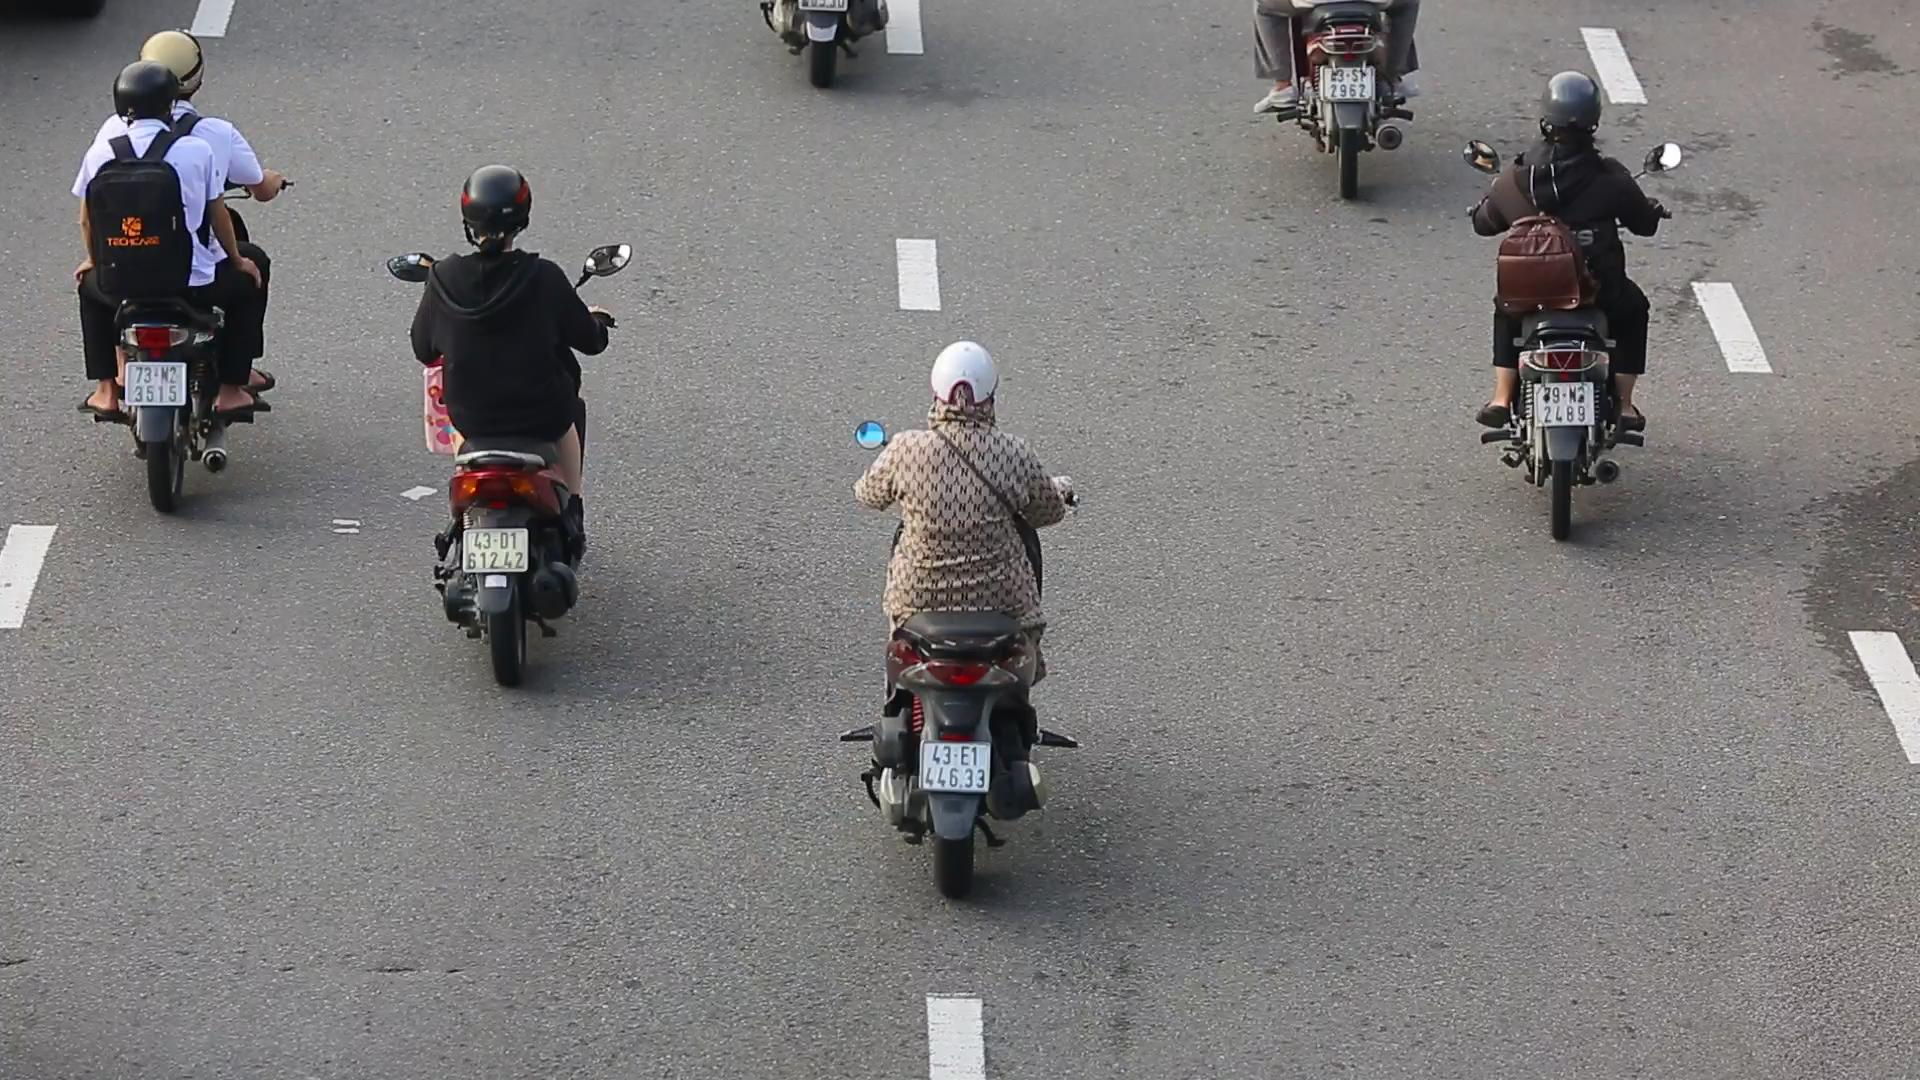motobike: (835, 332, 1079, 889), (405, 156, 641, 703), (59, 17, 309, 521)
